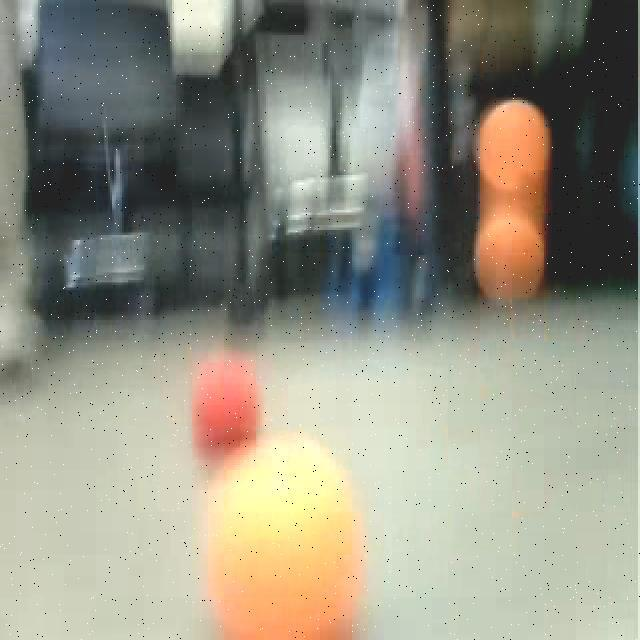ping-pong-ball: (206, 438, 364, 637), (458, 101, 554, 201), (468, 213, 554, 307), (185, 356, 265, 457)
